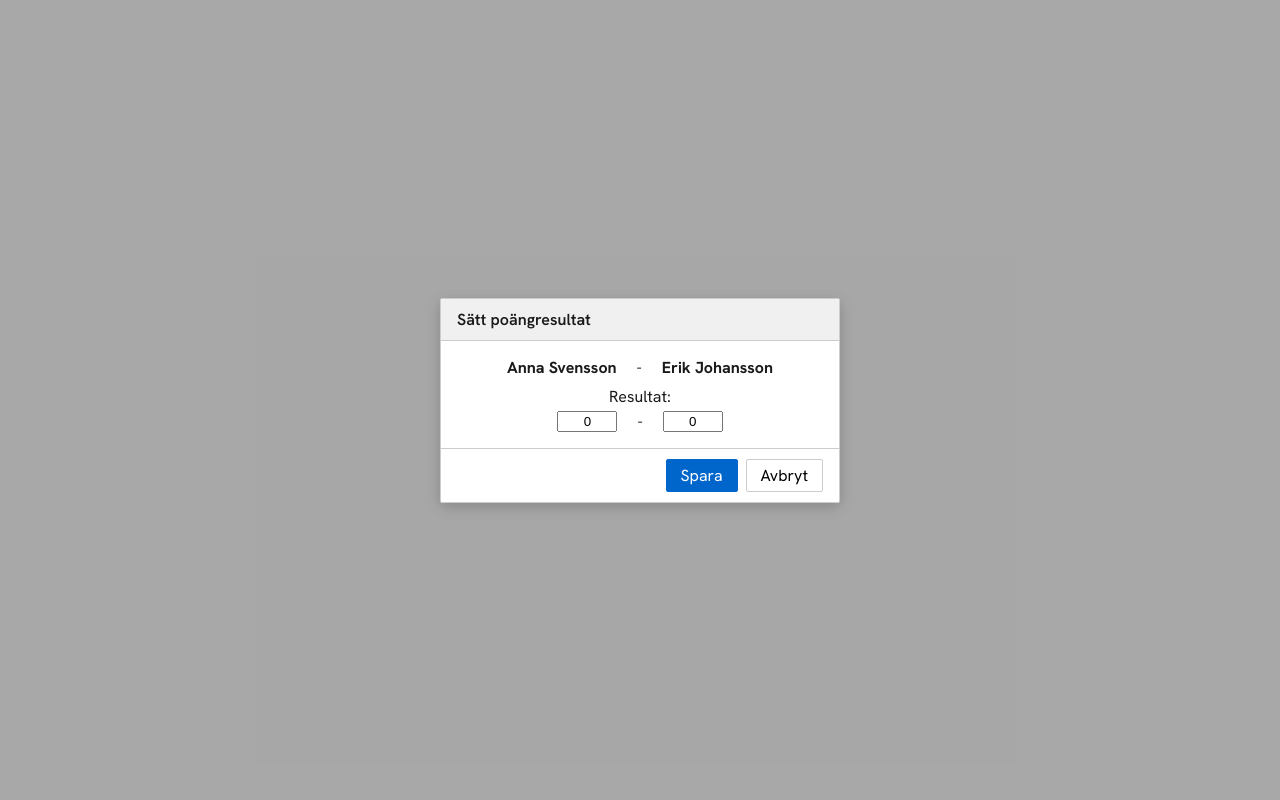
Test case: EditScoreDialog validation › shows inline error when scores exceed max points
The width and height of the screenshot is (1280, 800).
Replace the text in the 1st field with "1" at [587, 421], box 557,410 -> 617,432
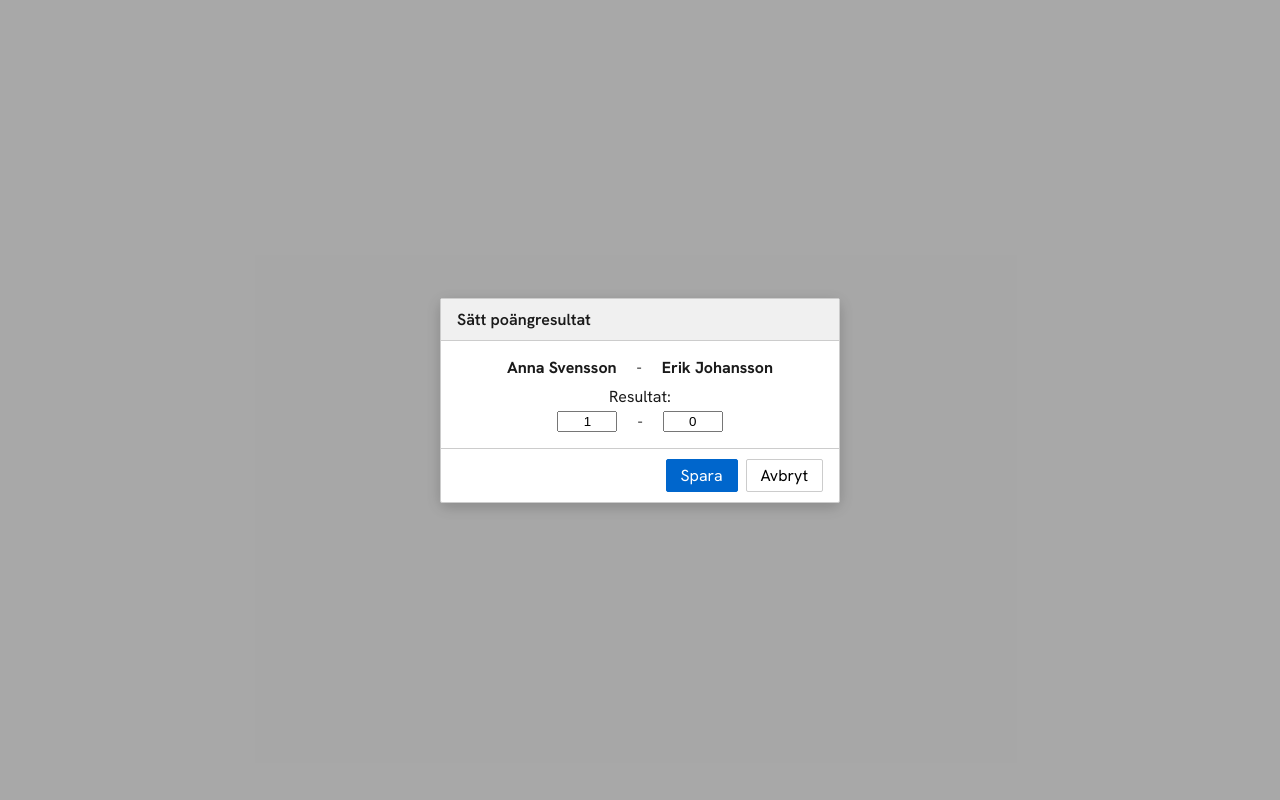
Replace the text in the 2nd field with "1" at [693, 421], box 663,410 -> 723,432
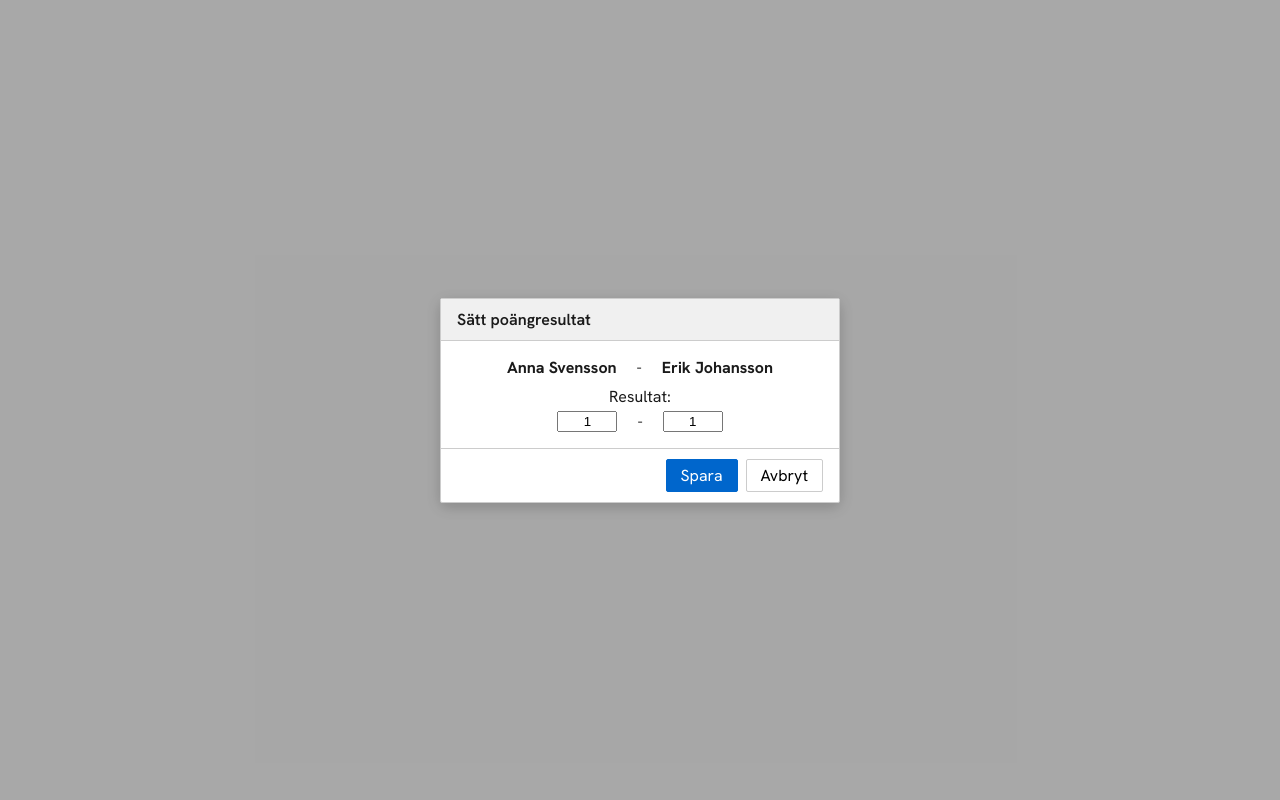
Click the button "Spara" at [702, 475], box 666,458 -> 738,492
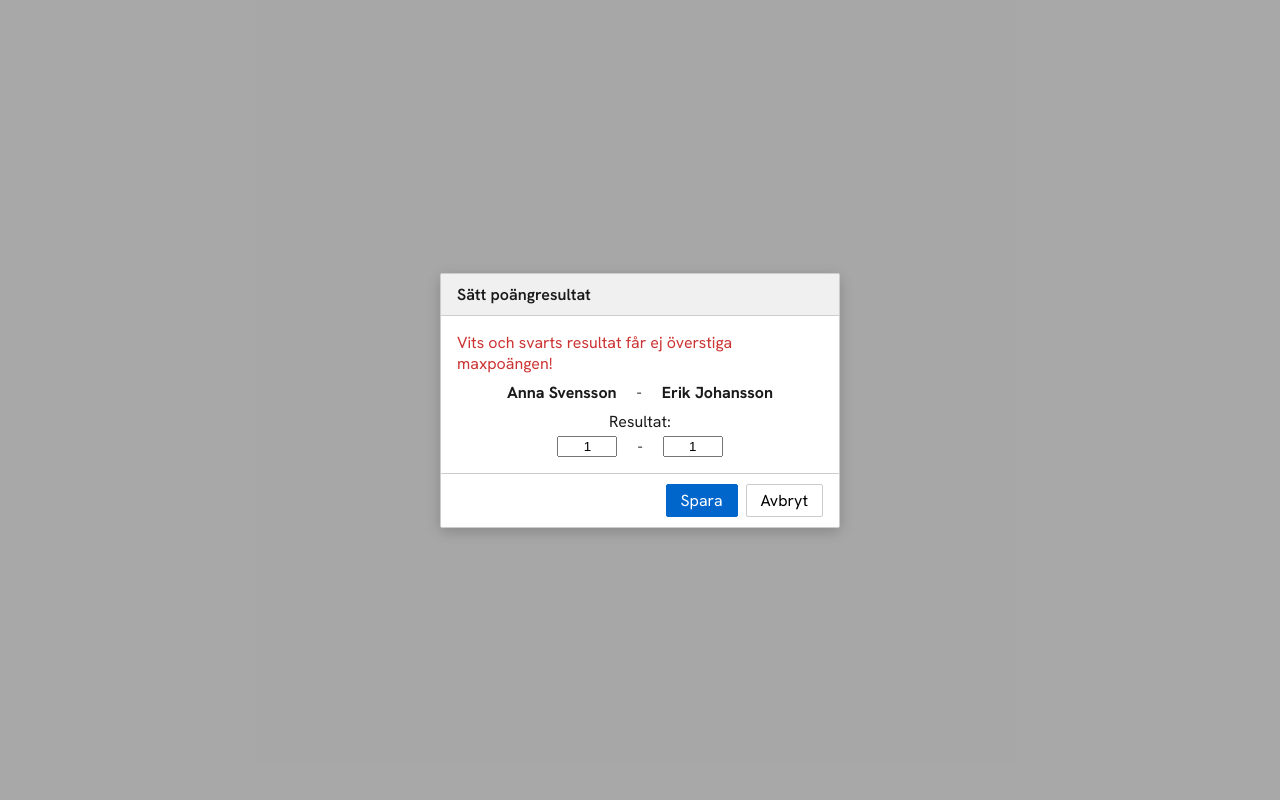
Expected: the text "Vits och svarts resultat får ej överstiga maxpoängen!" is shown, 457,332 -> 732,374
